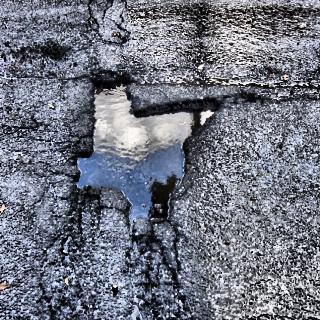crack: (129, 228, 200, 310), (82, 4, 139, 49)
pothole: (80, 53, 231, 234)
